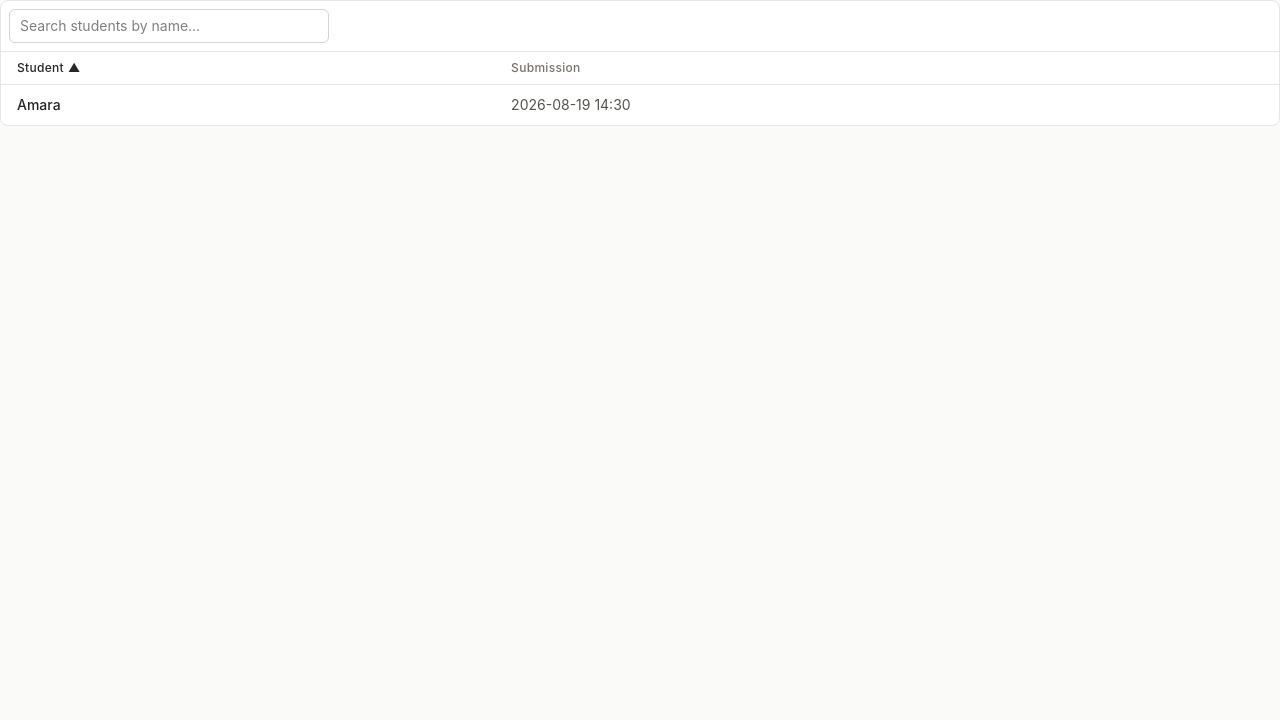
Roster drill-in › sends feedback to the student via POST /api/release
Click the text "Amara": [39, 104] box x1=1 y1=84 x2=495 y2=125
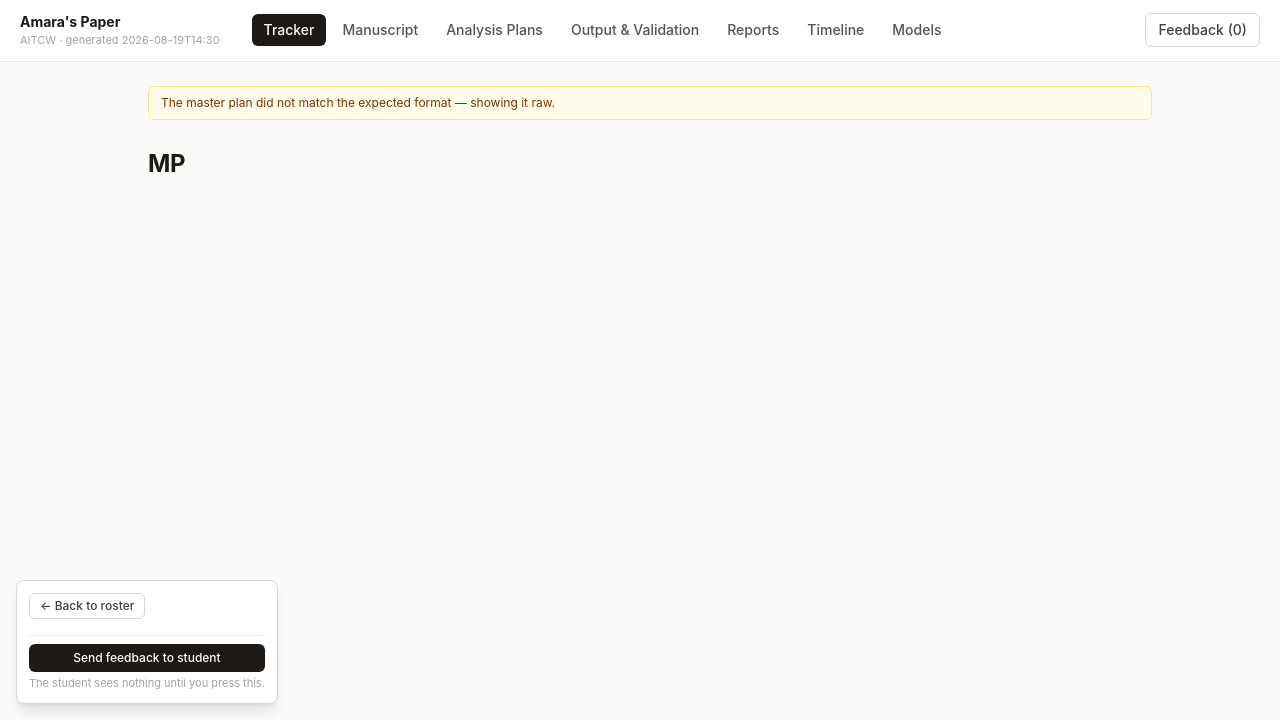
Expected: the text "Amara's Paper" is shown, x1=20 y1=13 x2=120 y2=30
Click the button "Send feedback to student": [147, 658] box x1=29 y1=644 x2=265 y2=672
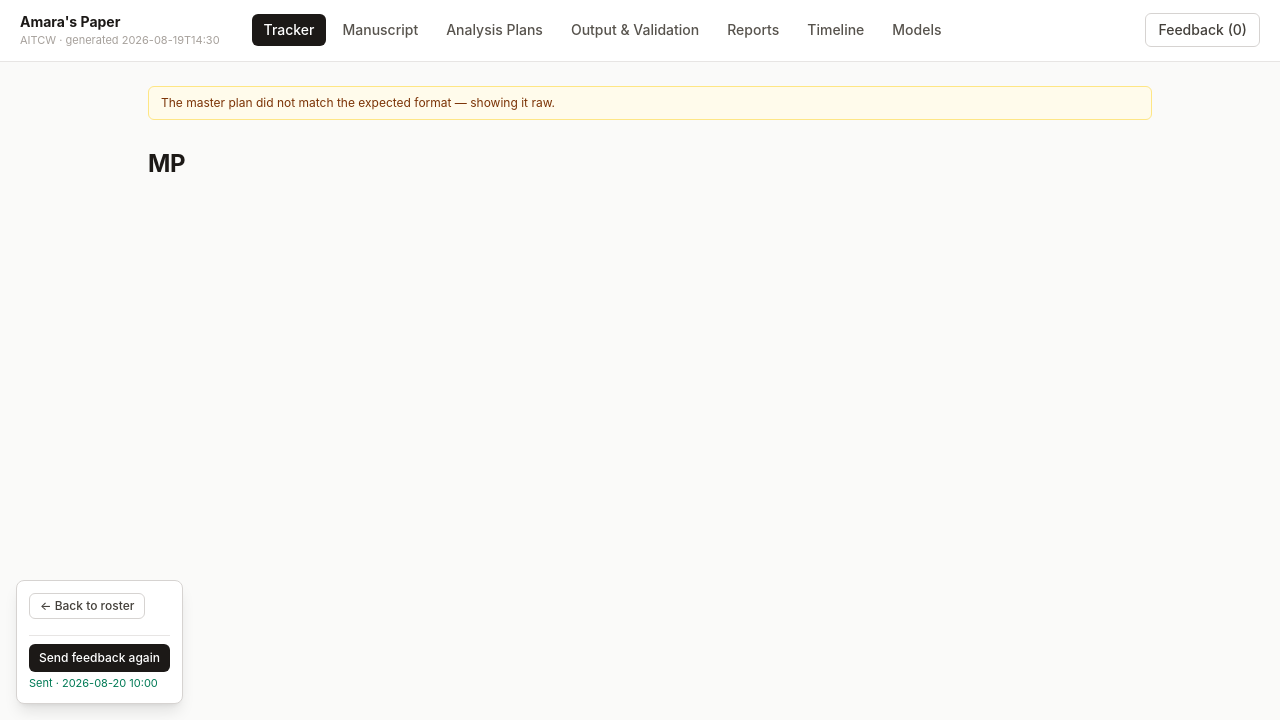
Expected: the text "Sent · 2026-08-20 10:00" is shown, x1=29 y1=676 x2=170 y2=691
